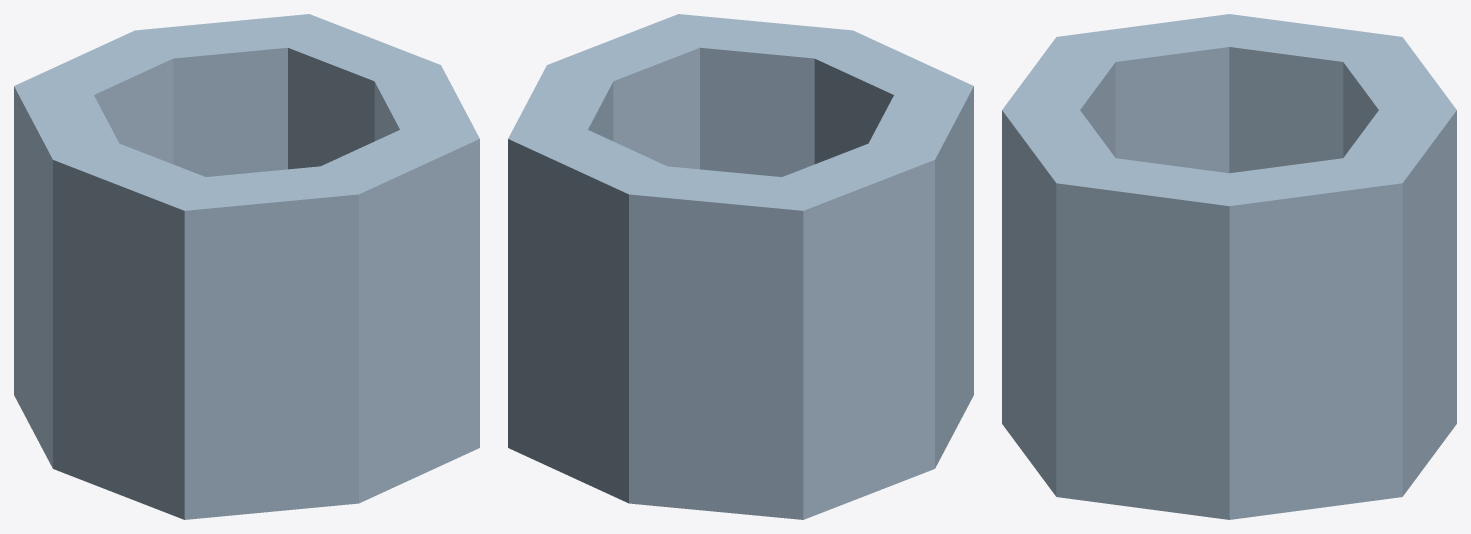
File: WhiskeyGlass.fbx
3 views of the same model, side by side, from view 1: azimuth 30°, elevation 25°; view 2: azimuth 150°, elevation 25°; view 3: azimuth 270°, elevation 25° (orthographic).
Visible parts, largest first — view 1: WhiskeyGlass; view 2: WhiskeyGlass; view 3: WhiskeyGlass.
Part boxes in pixels (x1,y1,x2,y2): WhiskeyGlass: (14, 14, 479, 519); WhiskeyGlass: (508, 14, 973, 519); WhiskeyGlass: (1002, 14, 1456, 519).
Bounding box in the file's own units: 13.3 × 10.12 × 13.3.
